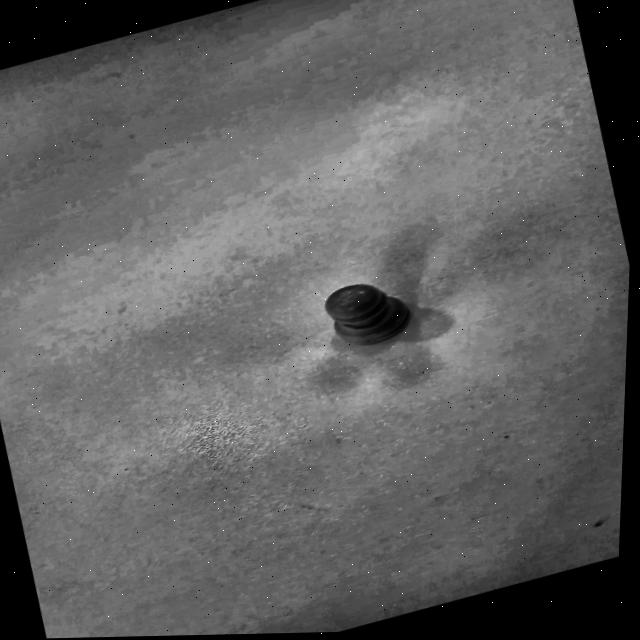white-pawn: (294, 257, 444, 382)
